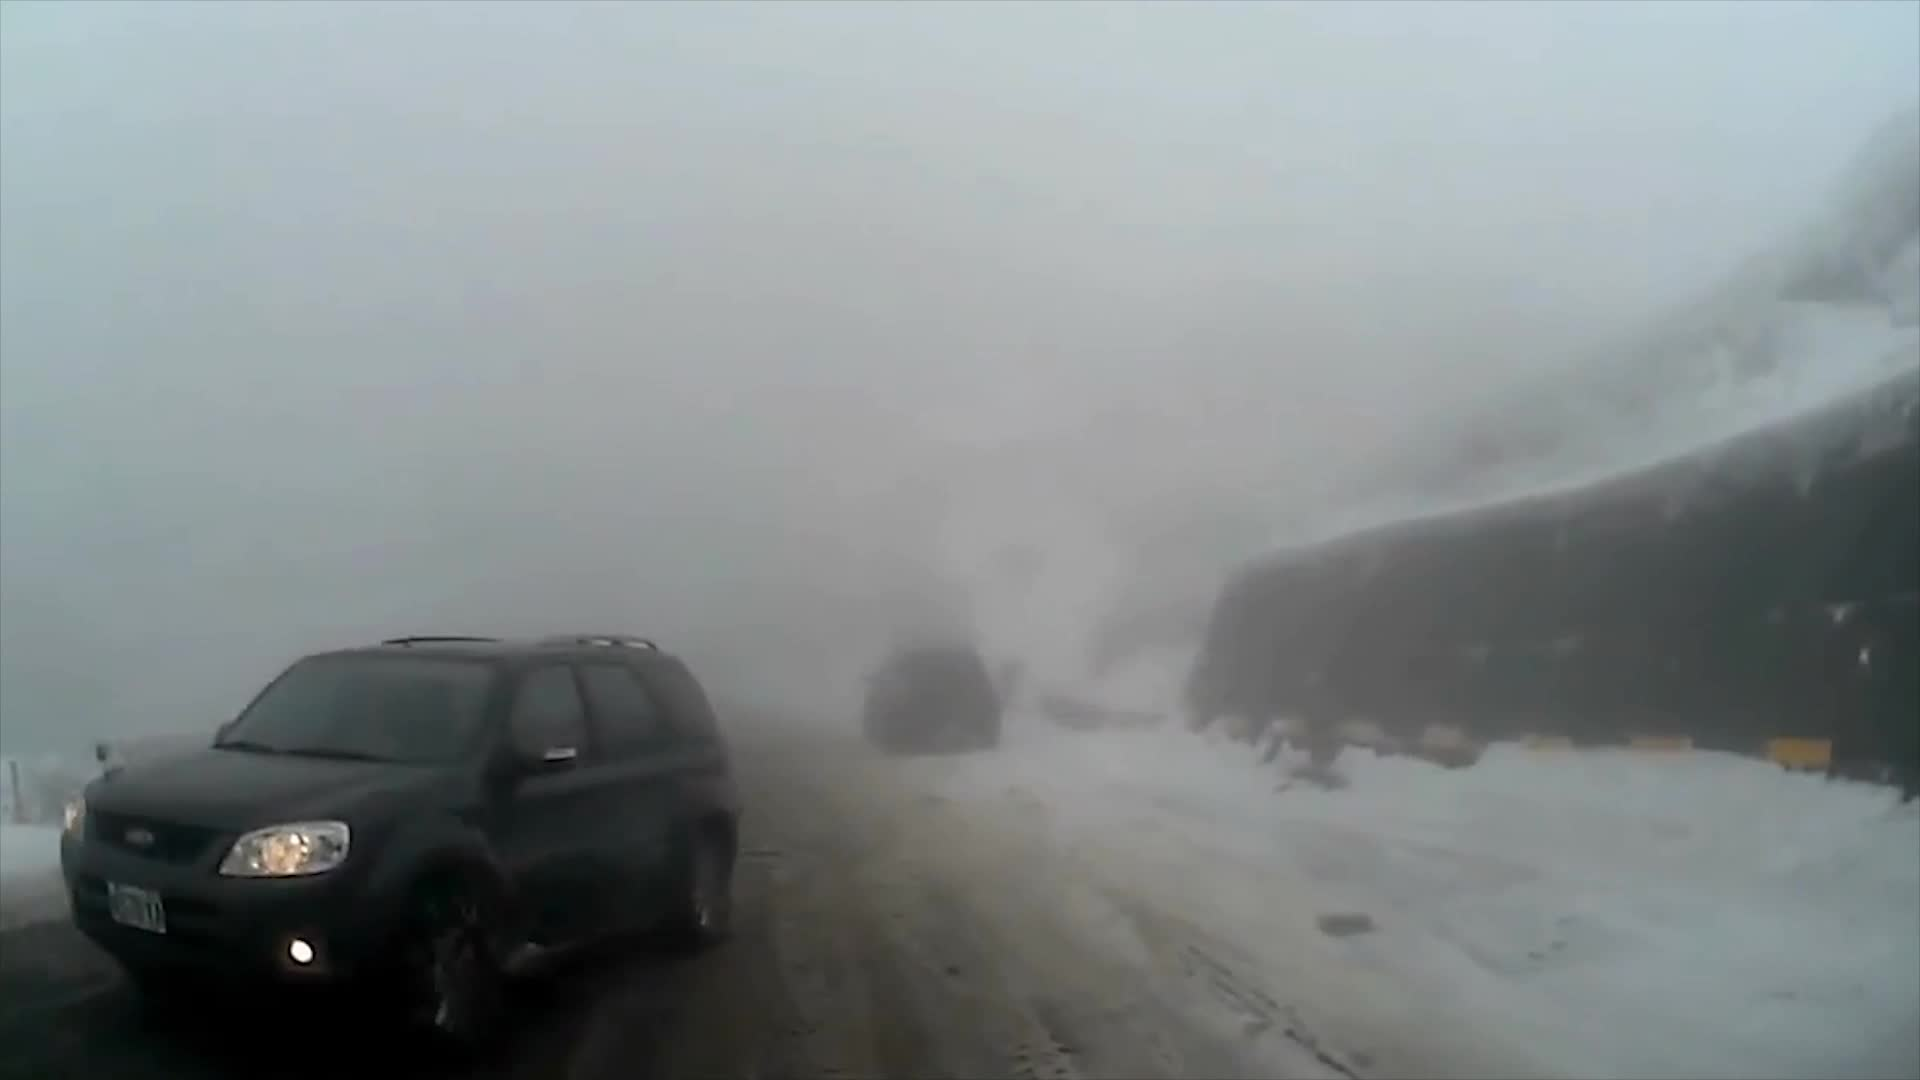vehicle: (51, 628, 741, 1052), (858, 637, 1000, 758)
